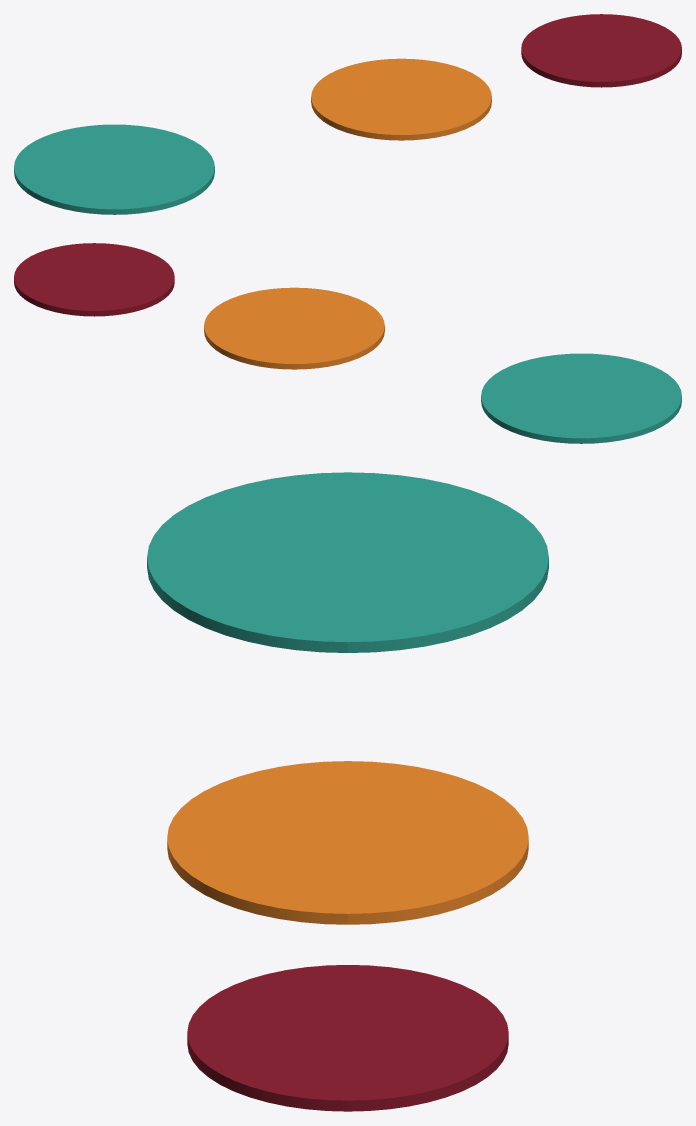
The model's file is online_condition_monitoring_system_pressure.glb.
3 renders of one model, top to bottom at view 1: azimuth 30°, elevation 25°; view 2: azimuth 150°, elevation 25°; view 3: azimuth 270°, elevation 25°, orthographic. The views are drawn at different scales.
Parts seen in each view (by area): view 1: pressure__front, pressure__back; view 2: pressure__back, pressure__front; view 3: pressure__back, pressure__front.
Boxes of the visible parts, bbox=[...] form: pressure__front: bbox=[27, 31, 681, 214]; pressure__back: bbox=[14, 14, 670, 192]; pressure__back: bbox=[14, 260, 668, 443]; pressure__front: bbox=[25, 243, 681, 421]; pressure__back: bbox=[348, 472, 548, 1111]; pressure__front: bbox=[147, 472, 347, 1111].
Bounding box in the file's own units: 3.7 × 0.03 × 1.
